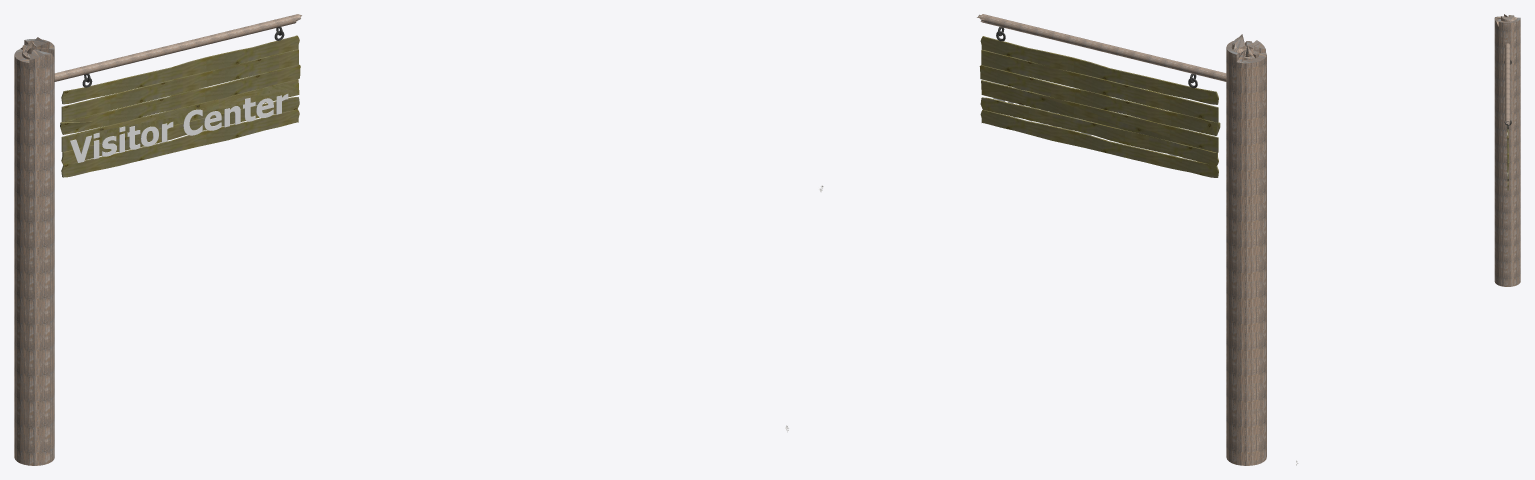
The picture shows the model from 3 angles, left to right: view 1: azimuth 30°, elevation 25°; view 2: azimuth 150°, elevation 25°; view 3: azimuth 270°, elevation 25°; orthographic projection. The views are drawn at different scales.
Visible parts, largest first — view 1: Component_1 (×2), skp1BF0 (×6); view 2: skp1BF0 (×6), Component_1 (×2); view 3: Component_1 (×2).
Boxes of the visible parts, bbox=[...] form: Component_1 (×2): bbox=[14, 14, 301, 465]; skp1BF0 (×6): bbox=[60, 35, 300, 177]; skp1BF0 (×6): bbox=[979, 36, 1220, 177]; Component_1 (×2): bbox=[977, 14, 1266, 465]; Component_1 (×2): bbox=[1494, 14, 1520, 286].
Bounding box in the file's own units: 3489 × 1738 × 2286.
7 materials, 4 textured.
